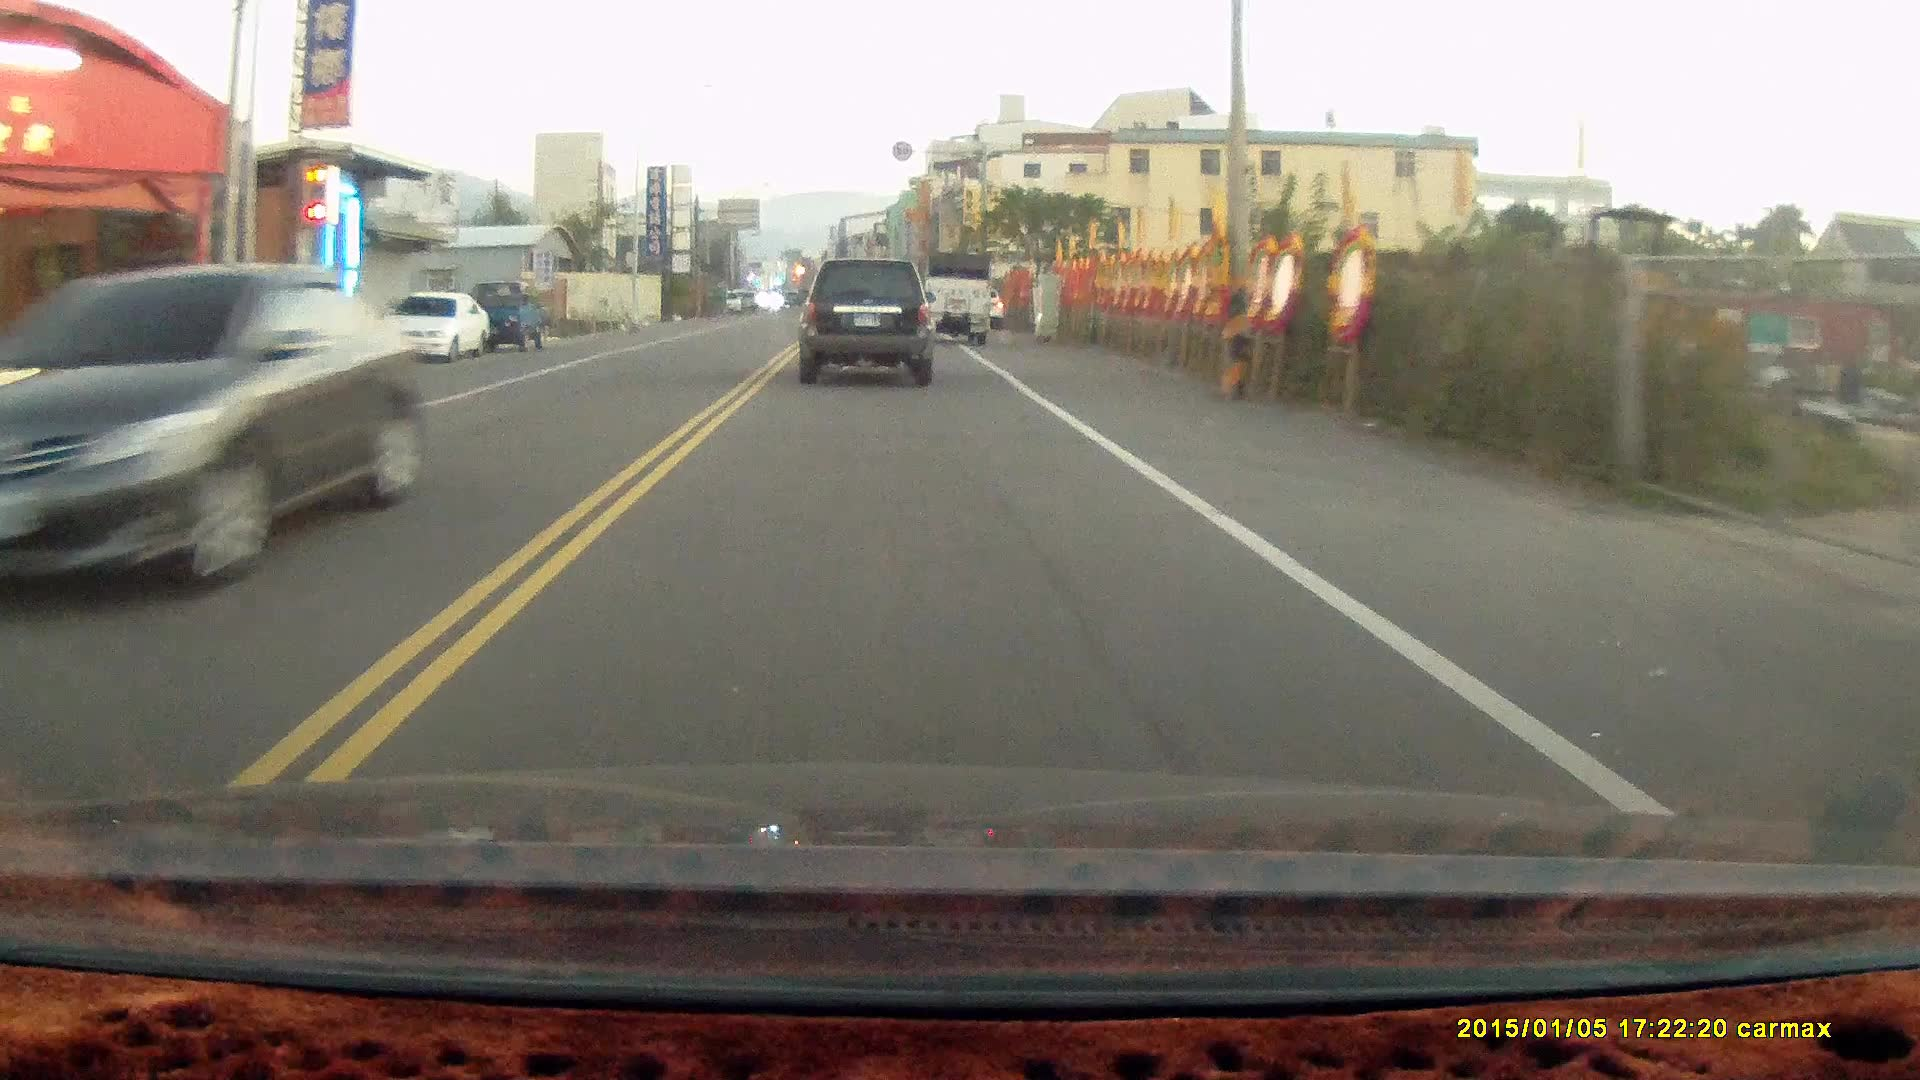vehicle: (1, 265, 442, 603), (800, 257, 939, 388), (376, 287, 493, 363), (924, 251, 997, 347), (468, 280, 556, 353)
